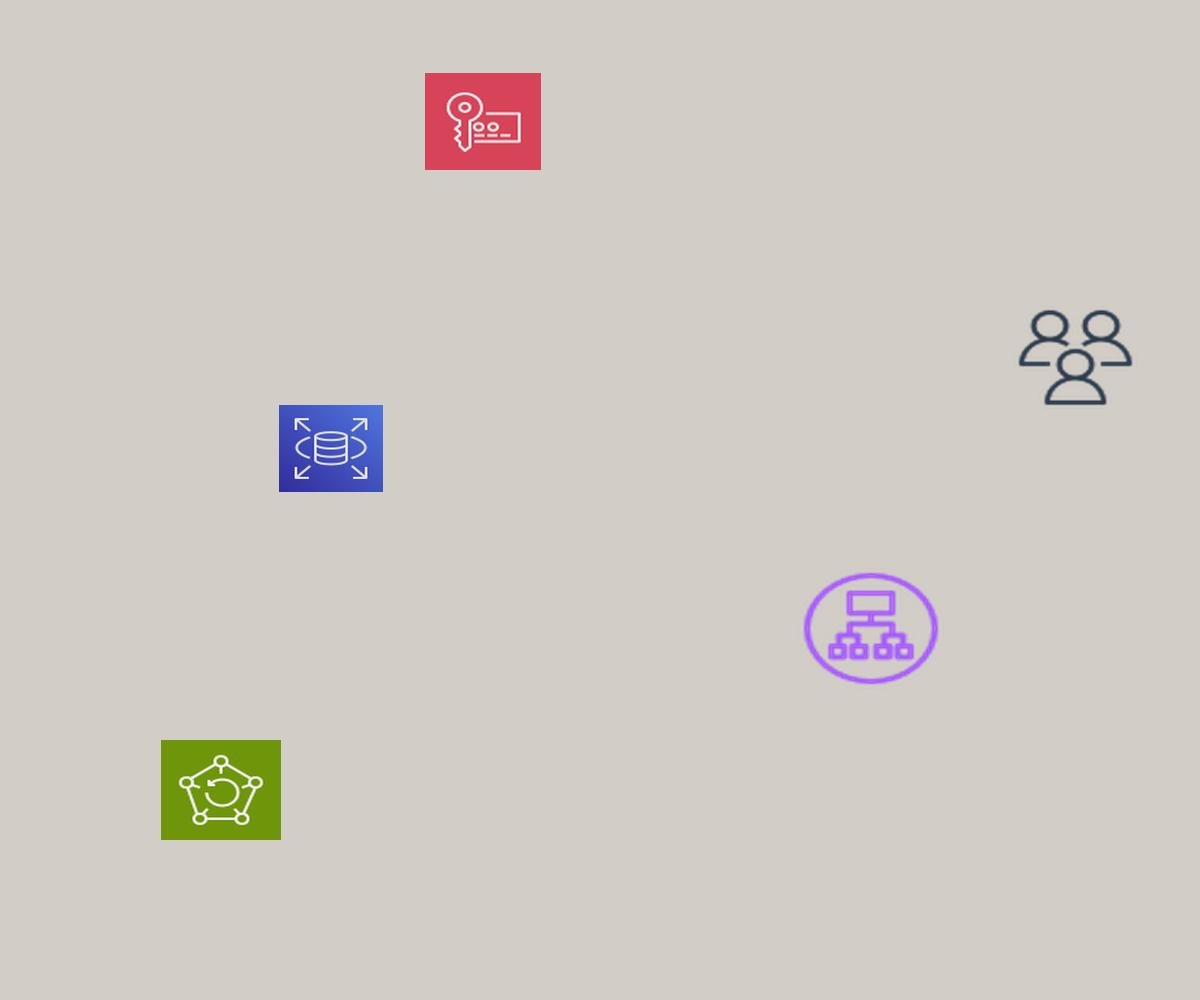AWS-Backup: (161, 740, 281, 840)
AWS-Key-Management-Service: (425, 73, 541, 170)
AWS-RDS: (279, 405, 383, 492)
AWS-Res_Elastic-Load-Balancing_Application-Load-Balancer: (798, 568, 944, 689)
AWS-Res_Users: (1014, 306, 1137, 409)
